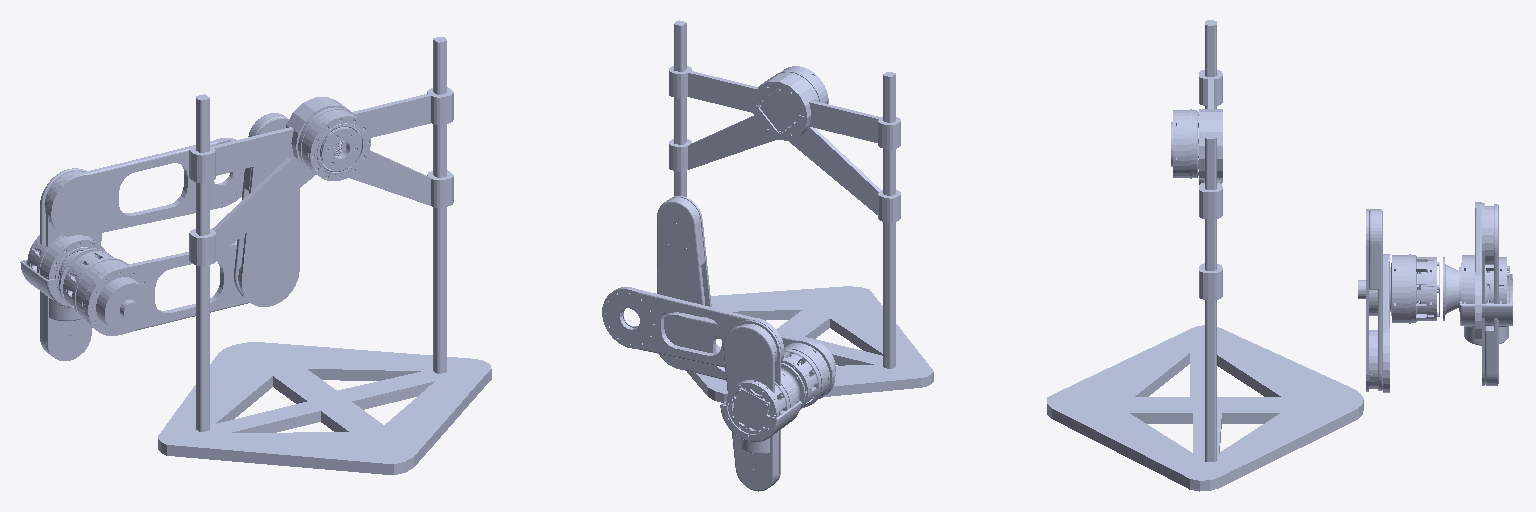
robot.urdf — titanleg:
<?xml version="1.0" encoding="utf-8"?>
<!-- This URDF was automatically created by SolidWorks to URDF Exporter! Originally created by [author] ([email redacted]) 
     Commit Version: 1.6.0-4-g7f85cfe  Build Version: 1.6.7995.38578
     For more information, please see http://wiki.ros.org/sw_urdf_exporter -->
<robot
  name="titanleg">
  <link
    name="world_link"/>
  <link
    name="base_link">
    <inertial>
      <origin
        xyz="0.285543629985341 0.194998849134254 0.401468537938472"
        rpy="0 0 0" />
      <mass
        value="0.444641789820814" />
      <inertia
        ixx="0.000422378679078014"
        ixy="1.64969033205762E-07"
        ixz="-3.42815948251253E-09"
        iyy="0.000422371403132014"
        iyz="-3.14388659635174E-09"
        izz="0.000783515664494764" />
    </inertial>
    <visual>
      <origin
        xyz="0 0 0"
        rpy="0 0 0" />
      <geometry>
        <mesh
          filename="package:///meshes/base_link.STL" />
      </geometry>
      <material
        name="">
        <color
          rgba="0.792156862745098 0.819607843137255 0.933333333333333 1" />
      </material>
    </visual>
    <collision>
      <origin
        xyz="0 0 0"
        rpy="0 0 0" />
      <geometry>
        <mesh
          filename="package:///meshes/base_link.STL" />
      </geometry>
    </collision>
  </link>
  <joint
    name="dummy_joint"
    type="fixed">
    <parent
      link="world_link" />
    <child
      link="base_link" />
  </joint>
  <link
    name="cbracket">
    <inertial>
      <origin
        xyz="0.285539869458885 0.195012953101029 0.338647445445658"
        rpy="0 0 0" />
      <mass
        value="0.194139827709801" />
      <inertia
        ixx="0.000187909216337473"
        ixy="1.78676211485826E-09"
        ixz="-1.04515996229664E-08"
        iyy="0.000246157573305321"
        iyz="3.72184232658196E-08"
        izz="0.000261155018400835" />
    </inertial>
    <visual>
      <origin
        xyz="0 0 0"
        rpy="0 0 0" />
      <geometry>
        <mesh
          filename="package:///meshes/cbracket.STL" />
      </geometry>
      <material
        name="">
        <color
          rgba="0.792156862745098 0.819607843137255 0.933333333333333 1" />
      </material>
    </visual>
    <collision>
      <origin
        xyz="0 0 0"
        rpy="0 0 0" />
      <geometry>
        <mesh
          filename="package:///meshes/cbracket.STL" />
      </geometry>
    </collision>
  </link>
  <joint
    name="j1"
    type="revolute">
    <origin
      xyz="0 0 0"
      rpy="0 0 0" />
    <parent
      link="base_link" />
    <child
      link="cbracket" />
    <axis
      xyz="0 0 -1" />
    <limit
      lower="0"
      upper="3.142"
      effort="300"
      velocity="3" />
  </joint>
  <link
    name="acc1">
    <inertial>
      <origin
        xyz="0.285548873939453 0.172594740542959 0.276531202836462"
        rpy="0 0 0" />
      <mass
        value="0.580805573043362" />
      <inertia
        ixx="0.000492159787240385"
        ixy="1.50936769975587E-09"
        ixz="-8.56532320526593E-08"
        iyy="0.000905329045450532"
        iyz="-4.37109713281588E-09"
        izz="0.000492444403465044" />
    </inertial>
    <visual>
      <origin
        xyz="0 0 0"
        rpy="0 0 0" />
      <geometry>
        <mesh
          filename="package:///meshes/acc1.STL" />
      </geometry>
      <material
        name="">
        <color
          rgba="0.792156862745098 0.819607843137255 0.933333333333333 1" />
      </material>
    </visual>
    <collision>
      <origin
        xyz="0 0 0"
        rpy="0 0 0" />
      <geometry>
        <mesh
          filename="package:///meshes/acc1.STL" />
      </geometry>
    </collision>
  </link>
  <joint
    name="j2"
    type="revolute">
    <origin
      xyz="0 0 0"
      rpy="0 0 0" />
    <parent
      link="cbracket" />
    <child
      link="acc1" />
    <axis
      xyz="0 -1 0" />
    <limit
      lower="0"
      upper="3.142"
      effort="300"
      velocity="3" />
  </joint>
  <link
    name="acc2">
    <inertial>
      <origin
        xyz="0.285544075192303 0.0624141292517647 0.276530056499566"
        rpy="0 0 0" />
      <mass
        value="0.487854306232371" />
      <inertia
        ixx="0.000462080596257296"
        ixy="-4.52868915355638E-09"
        ixz="-8.61850755093484E-08"
        iyy="0.000789118999661582"
        iyz="1.04646866712411E-09"
        izz="0.000461798296135276" />
    </inertial>
    <visual>
      <origin
        xyz="0 0 0"
        rpy="0 0 0" />
      <geometry>
        <mesh
          filename="package:///meshes/acc2.STL" />
      </geometry>
      <material
        name="">
        <color
          rgba="0.792156862745098 0.819607843137255 0.933333333333333 1" />
      </material>
    </visual>
    <collision>
      <origin
        xyz="0 0 0"
        rpy="0 0 0" />
      <geometry>
        <mesh
          filename="package:///meshes/acc2.STL" />
      </geometry>
    </collision>
  </link>
  <joint
    name="j3"
    type="revolute">
    <origin
      xyz="0 0 0"
      rpy="0 0 0" />
    <parent
      link="acc1" />
    <child
      link="acc2" />
    <axis
      xyz="0 -1 0" />
    <limit
      lower="0"
      upper="3.142"
      effort="300"
      velocity="3" />
  </joint>
  <link
    name="leg1">
    <inertial>
      <origin
        xyz="0.148710766849133 0.0259864476273492 0.278510543162463"
        rpy="0 0 0" />
      <mass
        value="0.36589545292241" />
      <inertia
        ixx="0.000466959962116375"
        ixy="3.62148513981734E-07"
        ixz="7.41602205024745E-05"
        iyy="0.00547244468330663"
        iyz="-1.39736383693459E-07"
        izz="0.00501424101543542" />
    </inertial>
    <visual>
      <origin
        xyz="0 0 0"
        rpy="0 0 0" />
      <geometry>
        <mesh
          filename="package:///meshes/leg1.STL" />
      </geometry>
      <material
        name="">
        <color
          rgba="0.792156862745098 0.819607843137255 0.933333333333333 1" />
      </material>
    </visual>
    <collision>
      <origin
        xyz="0 0 0"
        rpy="0 0 0" />
      <geometry>
        <mesh
          filename="package:///meshes/leg1.STL" />
      </geometry>
    </collision>
  </link>
  <joint
    name="j4"
    type="revolute">
    <origin
      xyz="0 0 0"
      rpy="0 0 0" />
    <parent
      link="acc2" />
    <child
      link="leg1" />
    <axis
      xyz="0 -1 0" />
    <limit
      lower="-3.142"
      upper="3.142"
      effort="200"
      velocity="3" />
  </joint>
  <link
    name="lowleg1">
    <inertial>
      <origin
        xyz="0.00943634547376737 0.00638662686843915 0.169284361125698"
        rpy="0 0 0" />
      <mass
        value="0.662807706648712" />
      <inertia
        ixx="0.00531282955170692"
        ixy="-1.02126813768498E-05"
        ixz="-0.000269149166010491"
        iyy="0.00576046743541068"
        iyz="-0.000183354822039283"
        izz="0.00049846188856484" />
    </inertial>
    <visual>
      <origin
        xyz="0 0 0"
        rpy="0 0 0" />
      <geometry>
        <mesh
          filename="package:///meshes/lowleg1.STL" />
      </geometry>
      <material
        name="">
        <color
          rgba="0.792156862745098 0.819607843137255 0.933333333333333 1" />
      </material>
    </visual>
    <collision>
      <origin
        xyz="0 0 0"
        rpy="0 0 0" />
      <geometry>
        <mesh
          filename="package:///meshes/lowleg1.STL" />
      </geometry>
    </collision>
  </link>
  <joint
    name="j7"
    type="revolute">
    <origin
      xyz="0 0 0"
      rpy="0 0 0" />
    <parent
      link="leg1" />
    <child
      link="lowleg1" />
    <axis
      xyz="0 1 0" />
    <limit
      lower="0"
      upper="3.142"
      effort="200"
      velocity="3" />
  </joint>
  <link
    name="leg2">
    <inertial>
      <origin
        xyz="0.148710766849134 -0.0140135523726508 0.278510543162465"
        rpy="0 0 0" />
      <mass
        value="0.365895452922409" />
      <inertia
        ixx="0.000466959962116351"
        ixy="3.62148513983982E-07"
        ixz="7.41602205024681E-05"
        iyy="0.005472444683306"
        iyz="-1.39736383693121E-07"
        izz="0.00501424101543481" />
    </inertial>
    <visual>
      <origin
        xyz="0 0 0"
        rpy="0 0 0" />
      <geometry>
        <mesh
          filename="package:///meshes/leg2.STL" />
      </geometry>
      <material
        name="">
        <color
          rgba="0.792156862745098 0.819607843137255 0.933333333333333 1" />
      </material>
    </visual>
    <collision>
      <origin
        xyz="0 0 0"
        rpy="0 0 0" />
      <geometry>
        <mesh
          filename="package:///meshes/leg2.STL" />
      </geometry>
    </collision>
  </link>
  <joint
    name="j5"
    type="revolute">
    <origin
      xyz="0 0 0"
      rpy="0 0 0" />
    <parent
      link="acc2" />
    <child
      link="leg2" />
    <axis
      xyz="0 -1 0" />
    <limit
      lower="-3.142"
      upper="3.142"
      effort="200"
      velocity="3" />
  </joint>
  <link
    name="lowleg2">
    <inertial>
      <origin
        xyz="0.00943634547376737 0.00638662686843915 0.169284361125698"
        rpy="0 0 0" />
      <mass
        value="0.662807706648712" />
      <inertia
        ixx="0.00531282955170692"
        ixy="-1.02126813768498E-05"
        ixz="-0.000269149166010491"
        iyy="0.00576046743541068"
        iyz="-0.000183354822039283"
        izz="0.00049846188856484" />
    </inertial>
    <visual>
      <origin
        xyz="0 0 0"
        rpy="0 0 0" />
      <geometry>
        <mesh
          filename="package:///meshes/lowleg2.STL" />
      </geometry>
      <material
        name="">
        <color
          rgba="0.792156862745098 0.819607843137255 0.933333333333333 1" />
      </material>
    </visual>
    <collision>
      <origin
        xyz="0 0 0"
        rpy="0 0 0" />
      <geometry>
        <mesh
          filename="package:///meshes/lowleg2.STL" />
      </geometry>
    </collision>
  </link>
  <joint
    name="j8"
    type="revolute">
    <origin
      xyz="0 0 0"
      rpy="0 0 0" />
    <parent
      link="leg2" />
    <child
      link="lowleg2" />
    <axis
      xyz="0 1 0" />
    <limit
      lower="0"
      upper="3.142"
      effort="200"
      velocity="3" />
  </joint>
  <link
    name="pulley">
    <inertial>
      <origin
        xyz="0.28556949252123 0.00600097666043496 0.276527680420605"
        rpy="0 0 0" />
      <mass
        value="0.15148726652934" />
      <inertia
        ixx="9.46097837970229E-05"
        ixy="3.96555051164422E-09"
        ixz="3.59496822912099E-08"
        iyy="0.000169400649471206"
        iyz="1.87163807693523E-09"
        izz="9.46089948969572E-05" />
    </inertial>
    <visual>
      <origin
        xyz="0 0 0"
        rpy="0 0 0" />
      <geometry>
        <mesh
          filename="package:///meshes/pulley.STL" />
      </geometry>
      <material
        name="">
        <color
          rgba="0.792156862745098 0.819607843137255 0.933333333333333 1" />
      </material>
    </visual>
    <collision>
      <origin
        xyz="0 0 0"
        rpy="0 0 0" />
      <geometry>
        <mesh
          filename="package:///meshes/pulley.STL" />
      </geometry>
    </collision>
  </link>
  <joint
    name="j6"
    type="revolute">
    <origin
      xyz="0 0 0"
      rpy="0 0 0" />
    <parent
      link="acc2" />
    <child
      link="pulley" />
    <axis
      xyz="0 -1 0" />
    <limit
      lower="0"
      upper="3.142"
      effort="300"
      velocity="3" />
  </joint>
</robot>

--- Facts derived from the render (not from the file) ---
Views: 3 orthographic renders of the robot side by side, from view 1: azimuth 30°, elevation 25°; view 2: azimuth 150°, elevation 25°; view 3: azimuth 270°, elevation 25°.
Model titanleg with 10 links and 9 joints (8 revolute, 1 fixed), rooted at world_link, posed every joint at zero.
Visible links, largest first — view 1: base_link, leg2, lowleg2, leg1, lowleg1, acc1, acc2, pulley, cbracket; view 2: base_link, leg2, lowleg1, lowleg2, acc1, leg1, acc2, cbracket; view 3: base_link, acc2, lowleg2, lowleg1, acc1, cbracket, leg1, leg2.
Link boxes in pixels (<box>): base_link: <box>158,37,491,474</box>; leg2: <box>48,138,244,236</box>; lowleg2: <box>234,113,299,306</box>; leg1: <box>84,242,249,335</box>; lowleg1: <box>40,168,101,360</box>; acc1: <box>27,235,108,305</box>; acc2: <box>63,251,140,322</box>; pulley: <box>96,277,151,333</box>; cbracket: <box>20,259,80,320</box>; base_link: <box>669,20,933,402</box>; leg2: <box>602,287,784,367</box>; lowleg1: <box>723,320,780,491</box>; lowleg2: <box>657,196,711,318</box>; acc1: <box>726,363,805,433</box>; leg1: <box>659,312,835,398</box>; acc2: <box>782,343,829,409</box>; cbracket: <box>720,401,800,453</box>; base_link: <box>1047,20,1363,491</box>; acc2: <box>1358,254,1439,323</box>; lowleg2: <box>1366,209,1382,391</box>; lowleg1: <box>1482,203,1498,385</box>; acc1: <box>1443,255,1509,320</box>; cbracket: <box>1460,274,1512,345</box>; leg1: <box>1383,254,1389,392</box>; leg2: <box>1475,202,1481,340</box>.
Bounding box of the posed robot: 0.6185 × 0.7847 × 0.6635 m (x, y, z).
Meshes: 9 distinct files referenced, 9 mesh visuals loaded (9 binary STL).